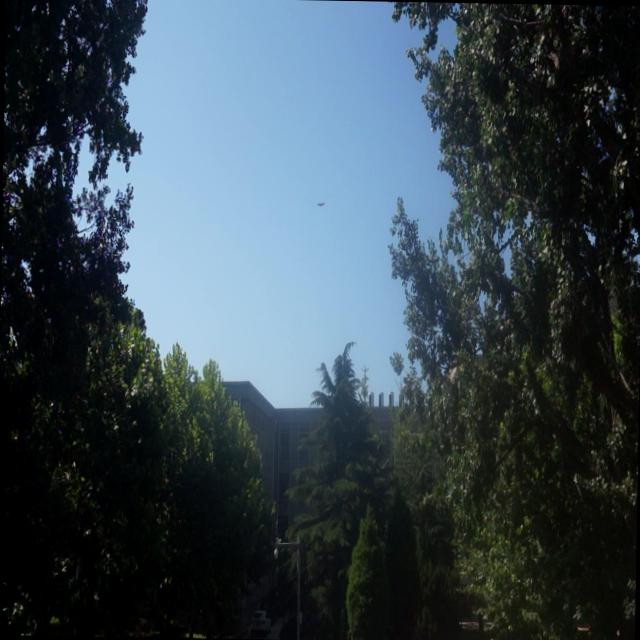drone: (314, 197, 326, 210)
